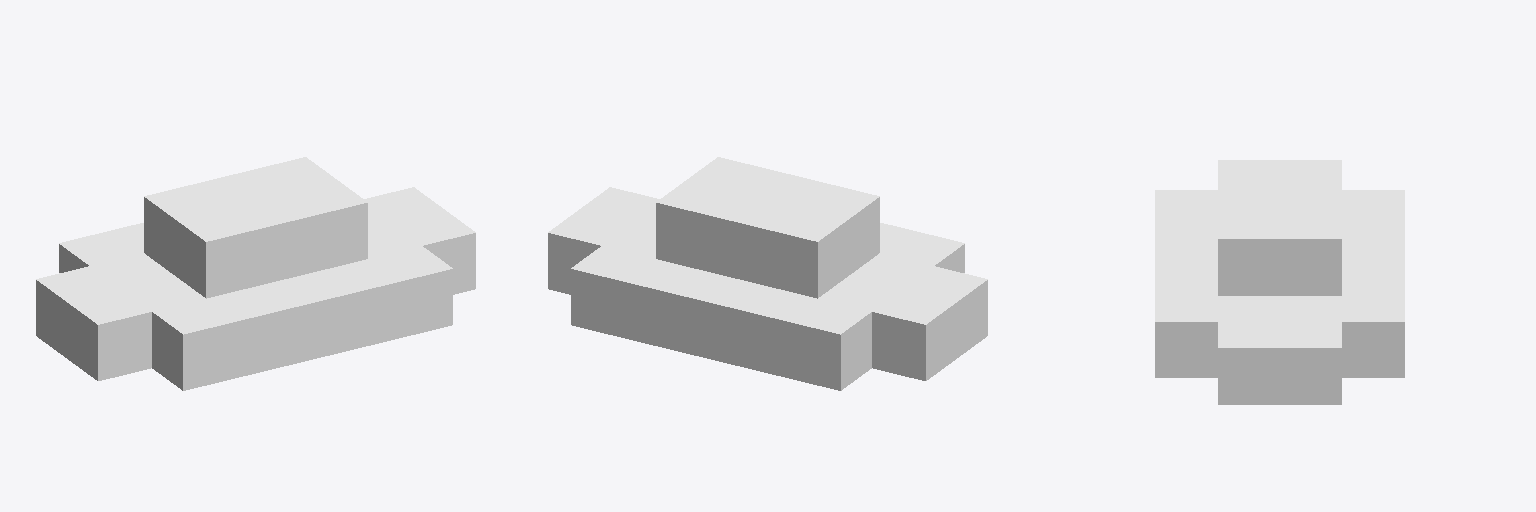
Rendered from SH_Soldier-2-Helm.obj.
3 views of the same model, side by side, from view 1: azimuth 30°, elevation 25°; view 2: azimuth 150°, elevation 25°; view 3: azimuth 270°, elevation 25° (orthographic).
Parts seen in each view (by area): view 1: Helm; view 2: Helm; view 3: Helm.
Boxes of the visible parts, box(x1,y1,x2,y2) form: Helm: box(36, 157, 475, 390); Helm: box(548, 157, 987, 390); Helm: box(1155, 160, 1404, 404).
Size of the model in its own units: 0.7 by 0.2 by 0.4.